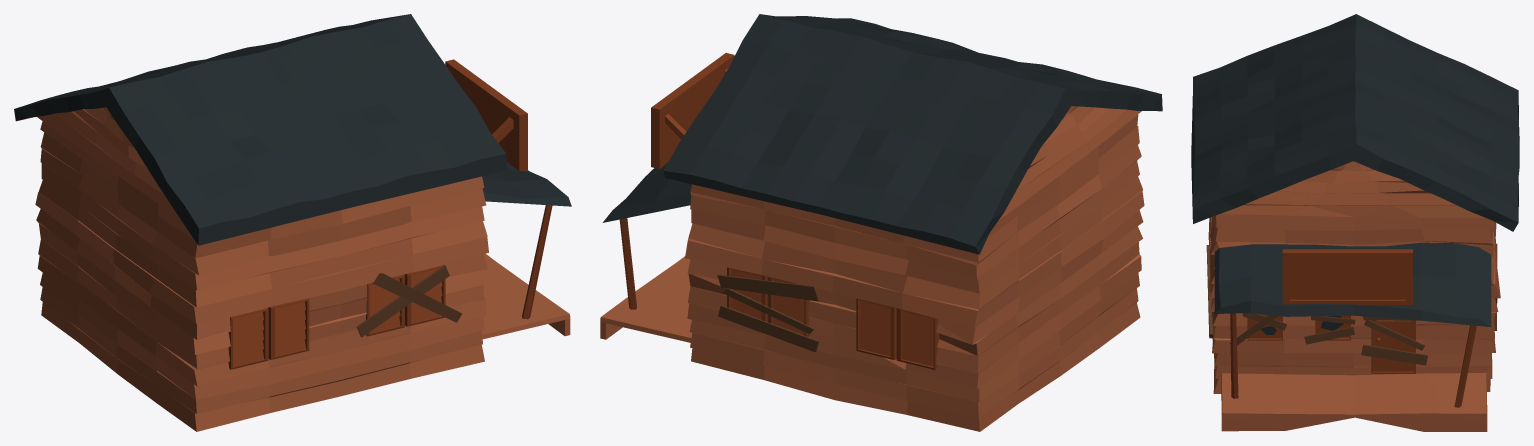
Rendered from Building_02.fbx.
3 views of the same model, side by side, from view 1: azimuth 30°, elevation 25°; view 2: azimuth 150°, elevation 25°; view 3: azimuth 270°, elevation 25° (orthographic). The views are drawn at different scales.
Parts seen in each view (by area): view 1: Building_02, Windows, Sign, Planks_dark; view 2: Building_02, Windows, Sign, Planks_dark; view 3: Building_02, Sign, Planks_dark.
Part boxes in pixels (left/top/right/bottom): Building_02: left=14, top=14, right=571, bottom=431; Windows: left=228, top=264, right=445, bottom=369; Sign: left=445, top=59, right=527, bottom=171; Planks_dark: left=356, top=265, right=461, bottom=337; Building_02: left=600, top=14, right=1162, bottom=431; Windows: left=727, top=267, right=939, bottom=369; Sign: left=651, top=53, right=734, bottom=168; Planks_dark: left=717, top=274, right=819, bottom=352; Building_02: left=1191, top=14, right=1519, bottom=431; Sign: left=1282, top=249, right=1412, bottom=304; Planks_dark: left=1206, top=243, right=1497, bottom=365.
Bounding box in the file's own units: 922 × 656 × 763.
